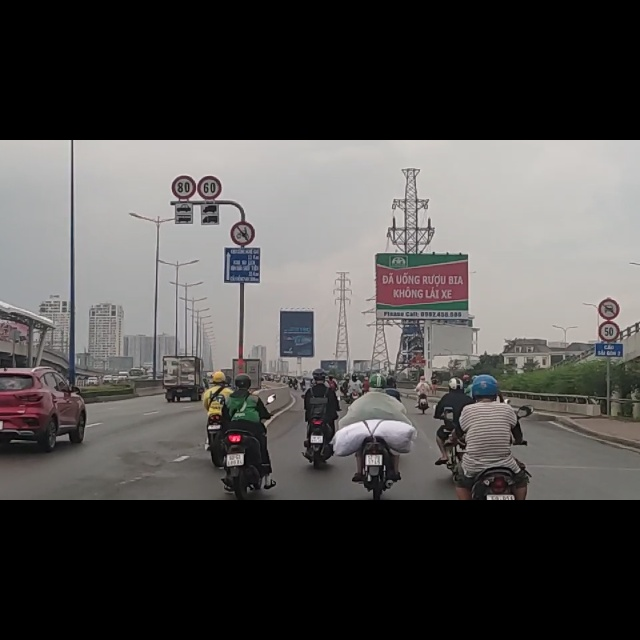bien_cam: (232, 145, 255, 186), (173, 64, 196, 104), (201, 68, 222, 107), (597, 322, 618, 358), (599, 282, 619, 319)
